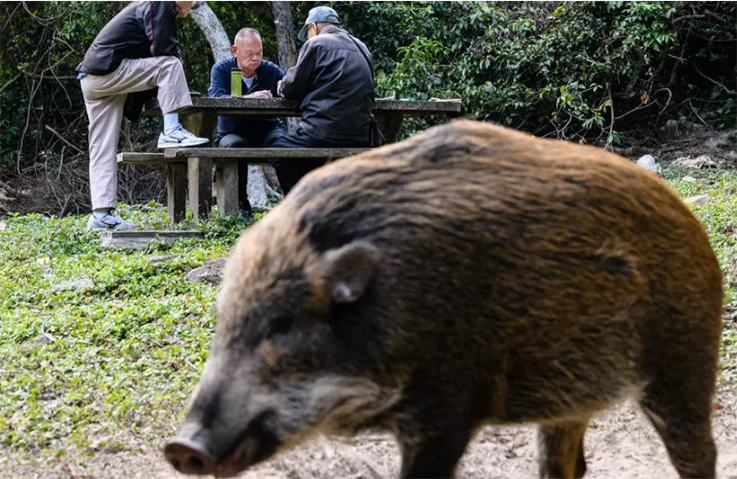boar: (151, 115, 729, 477)
